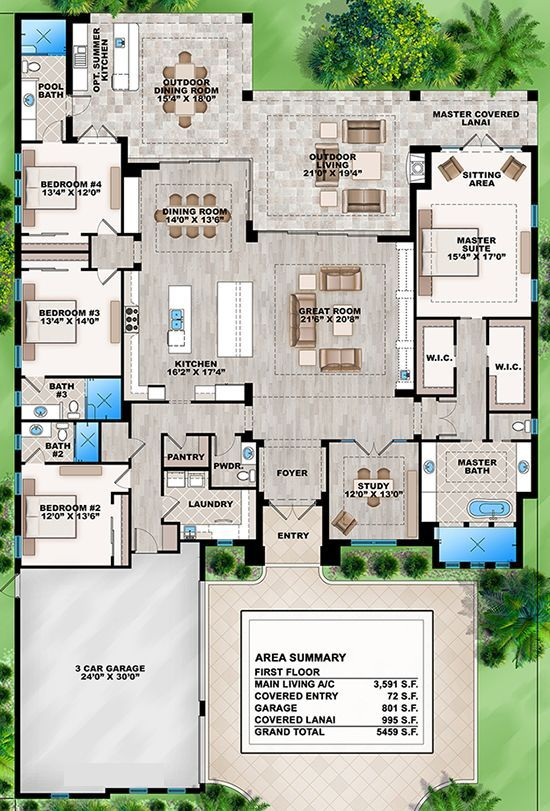room: (425, 145, 538, 320), (15, 461, 131, 569), (15, 267, 124, 379), (15, 140, 128, 237)
